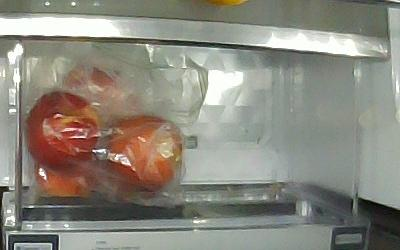apple_vinyl: (103, 116, 184, 194), (25, 91, 102, 167), (61, 63, 136, 114), (32, 154, 99, 199)
